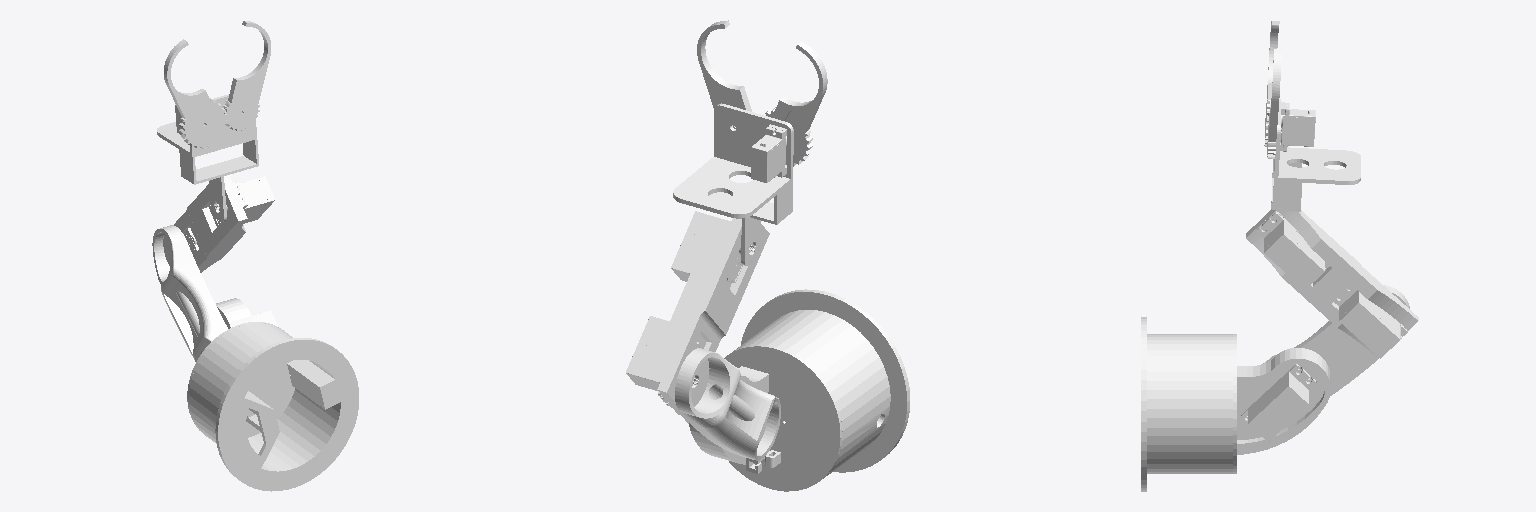
The robot description file, URDF, robot "urdffp2":
<?xml version="1.0" encoding="utf-8"?>
<!-- This URDF was automatically created by SolidWorks to URDF Exporter! Originally created by [author] ([email redacted]) 
     Commit Version: 1.6.0-4-g7f85cfe  Build Version: 1.6.7995.38578
     For more information, please see http://wiki.ros.org/sw_urdf_exporter -->
<robot
  name="urdffp2">
  <link
    name="base">
    <inertial>
      <origin
        xyz="0.0127881966812722 0.113296131355283 0.0976093911317581"
        rpy="0 0 0" />
      <mass
        value="0.3" />
      <inertia
        ixx="0.00325212219571988"
        ixy="-0.000102809618600118"
        ixz="6.16552443350391E-05"
        iyy="0.00237760024152938"
        iyz="-0.000613324486301127"
        izz="0.00115371607461039" />
    </inertial>
    <visual>
      <origin
        xyz="0 0 0"
        rpy="0 0 0" />
      <geometry>
        <mesh
          filename="package://urdffp2/meshes/base.STL" />
      </geometry>
      <material
        name="">
        <color
          rgba="1 1 1 1" />
      </material>
    </visual>
    <collision>
      <origin
        xyz="0 0 0"
        rpy="0 0 0" />
      <geometry>
        <mesh
          filename="package://urdffp2/meshes/base.STL" />
      </geometry>
    </collision>
  </link>
  <link
    name="link1">
    <inertial>
      <origin
        xyz="0.0127881966812722 0.113296131355283 0.0976093911317581"
        rpy="0 0 0" />
      <mass
        value="0.3" />
      <inertia
        ixx="0.00325212219571988"
        ixy="-0.000102809618600118"
        ixz="6.16552443350391E-05"
        iyy="0.00237760024152938"
        iyz="-0.000613324486301127"
        izz="0.00115371607461039" />
    </inertial>
    <visual>
      <origin
        xyz="0 0 0"
        rpy="0 0 0" />
      <geometry>
        <mesh
          filename="package://urdffp2/meshes/link1.STL" />
      </geometry>
      <material
        name="">
        <color
          rgba="1 1 1 1" />
      </material>
    </visual>
    <collision>
      <origin
        xyz="0 0 0"
        rpy="0 0 0" />
      <geometry>
        <mesh
          filename="package://urdffp2/meshes/link1.STL" />
      </geometry>
    </collision>
  </link>
  <joint
    name="joint1"
    type="revolute">
    <origin
      xyz="0 0 0"
      rpy="0 0 0" />
    <parent
      link="base" />
    <child
      link="link1" />
    <axis
      xyz="0 0 1" />
    <limit
      lower="-3.14"
      upper="3.14"
      effort="0.833"
      velocity="5.23" />
  </joint>
  <link
    name="link2">
    <inertial>
      <origin
        xyz="0.012788 0.1133 0.097609"
        rpy="0 0 0" />
      <mass
        value="0.3" />
      <inertia
        ixx="0.0032521"
        ixy="-0.00010281"
        ixz="6.1655E-05"
        iyy="0.0023776"
        iyz="-0.00061332"
        izz="0.0011537" />
    </inertial>
    <visual>
      <origin
        xyz="0 0 0"
        rpy="0 0 0" />
      <geometry>
        <mesh
          filename="package://urdffp2/meshes/link2.STL" />
      </geometry>
      <material
        name="">
        <color
          rgba="0.79216 0.81961 0.93333 1" />
      </material>
    </visual>
    <collision>
      <origin
        xyz="0 0 0"
        rpy="0 0 0" />
      <geometry>
        <mesh
          filename="package://urdffp2/meshes/link2.STL" />
      </geometry>
    </collision>
  </link>
  <joint
    name="joint2"
    type="revolute">
    <origin
      xyz="0.015132 0 -0.0043844"
      rpy="1.5708 0 0" />
    <parent
      link="link1" />
    <child
      link="link2" />
    <axis
      xyz="0 0 -1" />
    <limit
      lower="-3.14"
      upper="3.14"
      effort="0.833"
      velocity="5.23" />
  </joint>
  <link
    name="link3">
    <inertial>
      <origin
        xyz="0.012788 0.1133 0.097609"
        rpy="0 0 0" />
      <mass
        value="0.3" />
      <inertia
        ixx="0.0032521"
        ixy="-0.00010281"
        ixz="6.1655E-05"
        iyy="0.0023776"
        iyz="-0.00061332"
        izz="0.0011537" />
    </inertial>
    <visual>
      <origin
        xyz="0 0 0"
        rpy="0 0 0" />
      <geometry>
        <mesh
          filename="package://urdffp2/meshes/link3.STL" />
      </geometry>
      <material
        name="">
        <color
          rgba="1 1 1 1" />
      </material>
    </visual>
    <collision>
      <origin
        xyz="0 0 0"
        rpy="0 0 0" />
      <geometry>
        <mesh
          filename="package://urdffp2/meshes/link3.STL" />
      </geometry>
    </collision>
  </link>
  <joint
    name="joint3"
    type="revolute">
    <origin
      xyz="0.07636 0.10521 0"
      rpy="0 0 0" />
    <parent
      link="link2" />
    <child
      link="link3" />
    <axis
      xyz="0 0 -1" />
    <limit
      lower="-3.14"
      upper="3.14"
      effort="0.833"
      velocity="5.23" />
  </joint>
  <link
    name="link4">
    <inertial>
      <origin
        xyz="0.012788 0.1133 0.097609"
        rpy="0 0 0" />
      <mass
        value="0.3" />
      <inertia
        ixx="0.0032521"
        ixy="-0.00010281"
        ixz="6.1655E-05"
        iyy="0.0023776"
        iyz="-0.00061332"
        izz="0.0011537" />
    </inertial>
    <visual>
      <origin
        xyz="0 0 0"
        rpy="0 0 0" />
      <geometry>
        <mesh
          filename="package://urdffp2/meshes/link4.STL" />
      </geometry>
      <material
        name="">
        <color
          rgba="1 1 1 1" />
      </material>
    </visual>
    <collision>
      <origin
        xyz="0 0 0"
        rpy="0 0 0" />
      <geometry>
        <mesh
          filename="package://urdffp2/meshes/link4.STL" />
      </geometry>
    </collision>
  </link>
  <joint
    name="joint4"
    type="revolute">
    <origin
      xyz="0.081624 -0.059241 0"
      rpy="0 0 0" />
    <parent
      link="link3" />
    <child
      link="link4" />
    <axis
      xyz="0 0 -1" />
    <limit
      lower="-3.14"
      upper="3.14"
      effort="0.833"
      velocity="5.23" />
  </joint>
  <link
    name="link5">
    <inertial>
      <origin
        xyz="0.012788 0.1133 0.097609"
        rpy="0 0 0" />
      <mass
        value="0.3" />
      <inertia
        ixx="0.0032521"
        ixy="-0.00010281"
        ixz="6.1655E-05"
        iyy="0.0023776"
        iyz="-0.00061332"
        izz="0.0011537" />
    </inertial>
    <visual>
      <origin
        xyz="0 0 0"
        rpy="0 0 0" />
      <geometry>
        <mesh
          filename="package://urdffp2/meshes/link5.STL" />
      </geometry>
      <material
        name="">
        <color
          rgba="0.79216 0.81961 0.93333 1" />
      </material>
    </visual>
    <collision>
      <origin
        xyz="0 0 0"
        rpy="0 0 0" />
      <geometry>
        <mesh
          filename="package://urdffp2/meshes/link5.STL" />
      </geometry>
    </collision>
  </link>
  <joint
    name="joint5"
    type="revolute">
    <origin
      xyz="0.042943 -0.052173 0.015825"
      rpy="1.5708 0 0" />
    <parent
      link="link4" />
    <child
      link="link5" />
    <axis
      xyz="0.58738 0 -0.80931" />
    <limit
      lower="-3.14"
      upper="3.14"
      effort="0.176"
      velocity="10.47" />
  </joint>
  <link
    name="link7">
    <inertial>
      <origin
        xyz="0.0127881966812722 0.113296131355283 0.0976093911317581"
        rpy="0 0 0" />
      <mass
        value="0.3" />
      <inertia
        ixx="0.00325212219571988"
        ixy="-0.000102809618600118"
        ixz="6.16552443350391E-05"
        iyy="0.00237760024152938"
        iyz="-0.000613324486301127"
        izz="0.00115371607461039" />
    </inertial>
    <visual>
      <origin
        xyz="0 0 0"
        rpy="0 0 0" />
      <geometry>
        <mesh
          filename="package://urdffp2/meshes/link7.STL" />
      </geometry>
      <material
        name="">
        <color
          rgba="1 1 1 1" />
      </material>
    </visual>
    <collision>
      <origin
        xyz="0 0 0"
        rpy="0 0 0" />
      <geometry>
        <mesh
          filename="package://urdffp2/meshes/link7.STL" />
      </geometry>
    </collision>
  </link>
  <joint
    name="joint7"
    type="fixed">
    <origin
      xyz="0.066828 -0.0125 0.048502"
      rpy="0 0 0" />
    <parent
      link="link5" />
    <child
      link="link7" />
    <axis
      xyz="0 0 0" />
  </joint>
  <link
    name="link6">
    <inertial>
      <origin
        xyz="0.0127881966812722 0.113296131355283 0.0976093911317581"
        rpy="0 0 0" />
      <mass
        value="0.3" />
      <inertia
        ixx="0.00325212219571988"
        ixy="-0.000102809618600118"
        ixz="6.16552443350391E-05"
        iyy="0.00237760024152938"
        iyz="-0.000613324486301127"
        izz="0.00115371607461039" />
    </inertial>
    <visual>
      <origin
        xyz="0 0 0"
        rpy="0 0 0" />
      <geometry>
        <mesh
          filename="package://urdffp2/meshes/link6.STL" />
      </geometry>
      <material
        name="">
        <color
          rgba="0.792156862745098 0.819607843137255 0.933333333333333 1" />
      </material>
    </visual>
    <collision>
      <origin
        xyz="0 0 0"
        rpy="0 0 0" />
      <geometry>
        <mesh
          filename="package://urdffp2/meshes/link6.STL" />
      </geometry>
    </collision>
  </link>
  <joint
    name="joint6"
    type="revolute">
    <origin
      xyz="0.043186 -0.052349 -0.011175"
      rpy="1.5708 0 0" />
    <parent
      link="link4" />
    <child
      link="link6" />
    <axis
      xyz="-0.58738 0 0.80931" />
    <limit
      lower="-3.14"
      upper="3.14"
      effort="0.176"
      velocity="10.47" />
  </joint>
  <link
    name="link8">
    <inertial>
      <origin
        xyz="0.0127881966812722 0.113296131355283 0.0976093911317581"
        rpy="0 0 0" />
      <mass
        value="0.3" />
      <inertia
        ixx="0.00325212219571988"
        ixy="-0.000102809618600118"
        ixz="6.16552443350391E-05"
        iyy="0.00237760024152938"
        iyz="-0.000613324486301127"
        izz="0.00115371607461039" />
    </inertial>
    <visual>
      <origin
        xyz="0 0 0"
        rpy="0 0 0" />
      <geometry>
        <mesh
          filename="package://urdffp2/meshes/link8.STL" />
      </geometry>
      <material
        name="">
        <color
          rgba="1 1 1 1" />
      </material>
    </visual>
    <collision>
      <origin
        xyz="0 0 0"
        rpy="0 0 0" />
      <geometry>
        <mesh
          filename="package://urdffp2/meshes/link8.STL" />
      </geometry>
    </collision>
  </link>
  <joint
    name="joint8"
    type="fixed">
    <origin
      xyz="0.067182 0.0058155 0.04876"
      rpy="0 0 0" />
    <parent
      link="link6" />
    <child
      link="link8" />
    <axis
      xyz="0 0 0" />
  </joint>
</robot>

--- What the picture shows (computed from the rendered views, not written in the file) ---
The picture shows the robot from 3 angles, left to right: view 1: azimuth 30°, elevation 25°; view 2: azimuth 150°, elevation 25°; view 3: azimuth 270°, elevation 25°; orthographic projection.
Model urdffp2 with 9 links and 8 joints (6 revolute, 2 fixed), rooted at base, posed all joints at 0.
Visible links, largest first — view 1: link1; view 2: link1; view 3: link1.
Boxes of the visible links, x1,y1,x2,y2 form: link1: (152,21,358,491); link1: (626,20,909,491); link1: (1141,21,1418,491).
Bounding box of the posed robot: 0.122 × 0.1938 × 0.3432 m (x, y, z).
Meshes: 9 distinct files referenced, 1 mesh visuals loaded (1 binary STL); not drawn: 8 (reference not matched to a file when rendering).